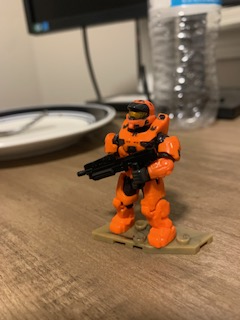rifle: (73, 146, 161, 189)
spartan: (102, 96, 182, 249)
